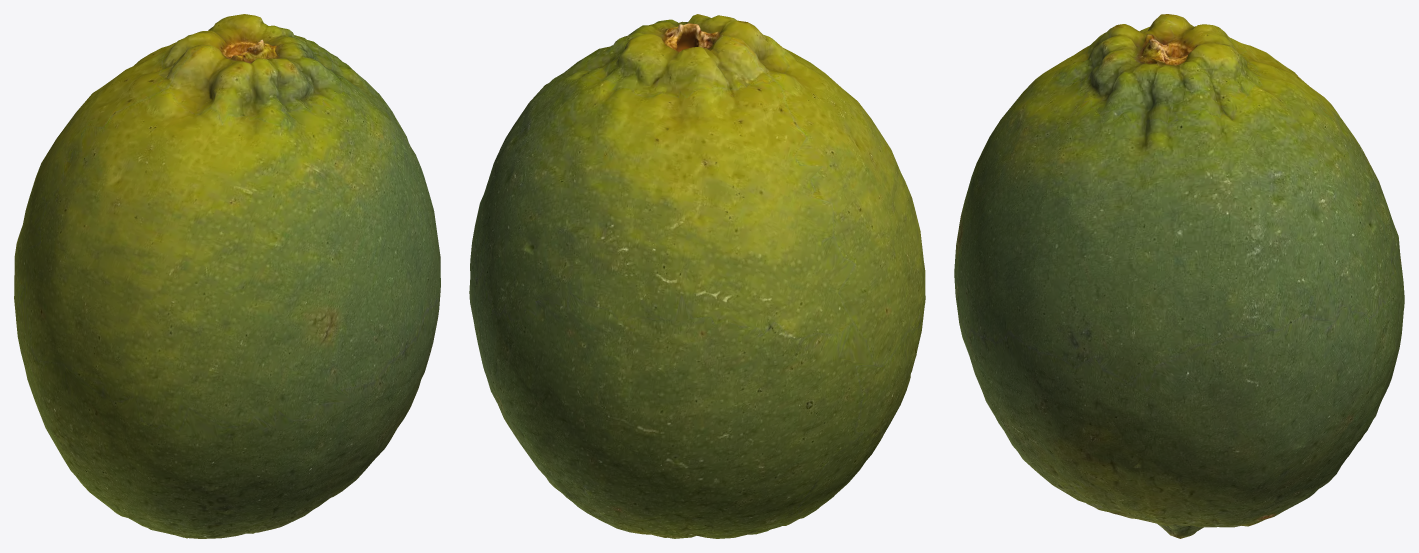
Rendered from food_lime_01.glb.
3 views of the same model, side by side, from view 1: azimuth 30°, elevation 25°; view 2: azimuth 150°, elevation 25°; view 3: azimuth 270°, elevation 25° (orthographic).
Parts seen in each view (by area): view 1: food_lime_01; view 2: food_lime_01; view 3: food_lime_01.
Boxes of the visible parts, bbox=[...] form: food_lime_01: bbox=[14, 14, 440, 538]; food_lime_01: bbox=[469, 14, 925, 538]; food_lime_01: bbox=[954, 14, 1404, 538].
Bounding box in the file's own units: 0.0601 × 0.0754 × 0.0613.
Materials: 1 (1 with a texture image).
